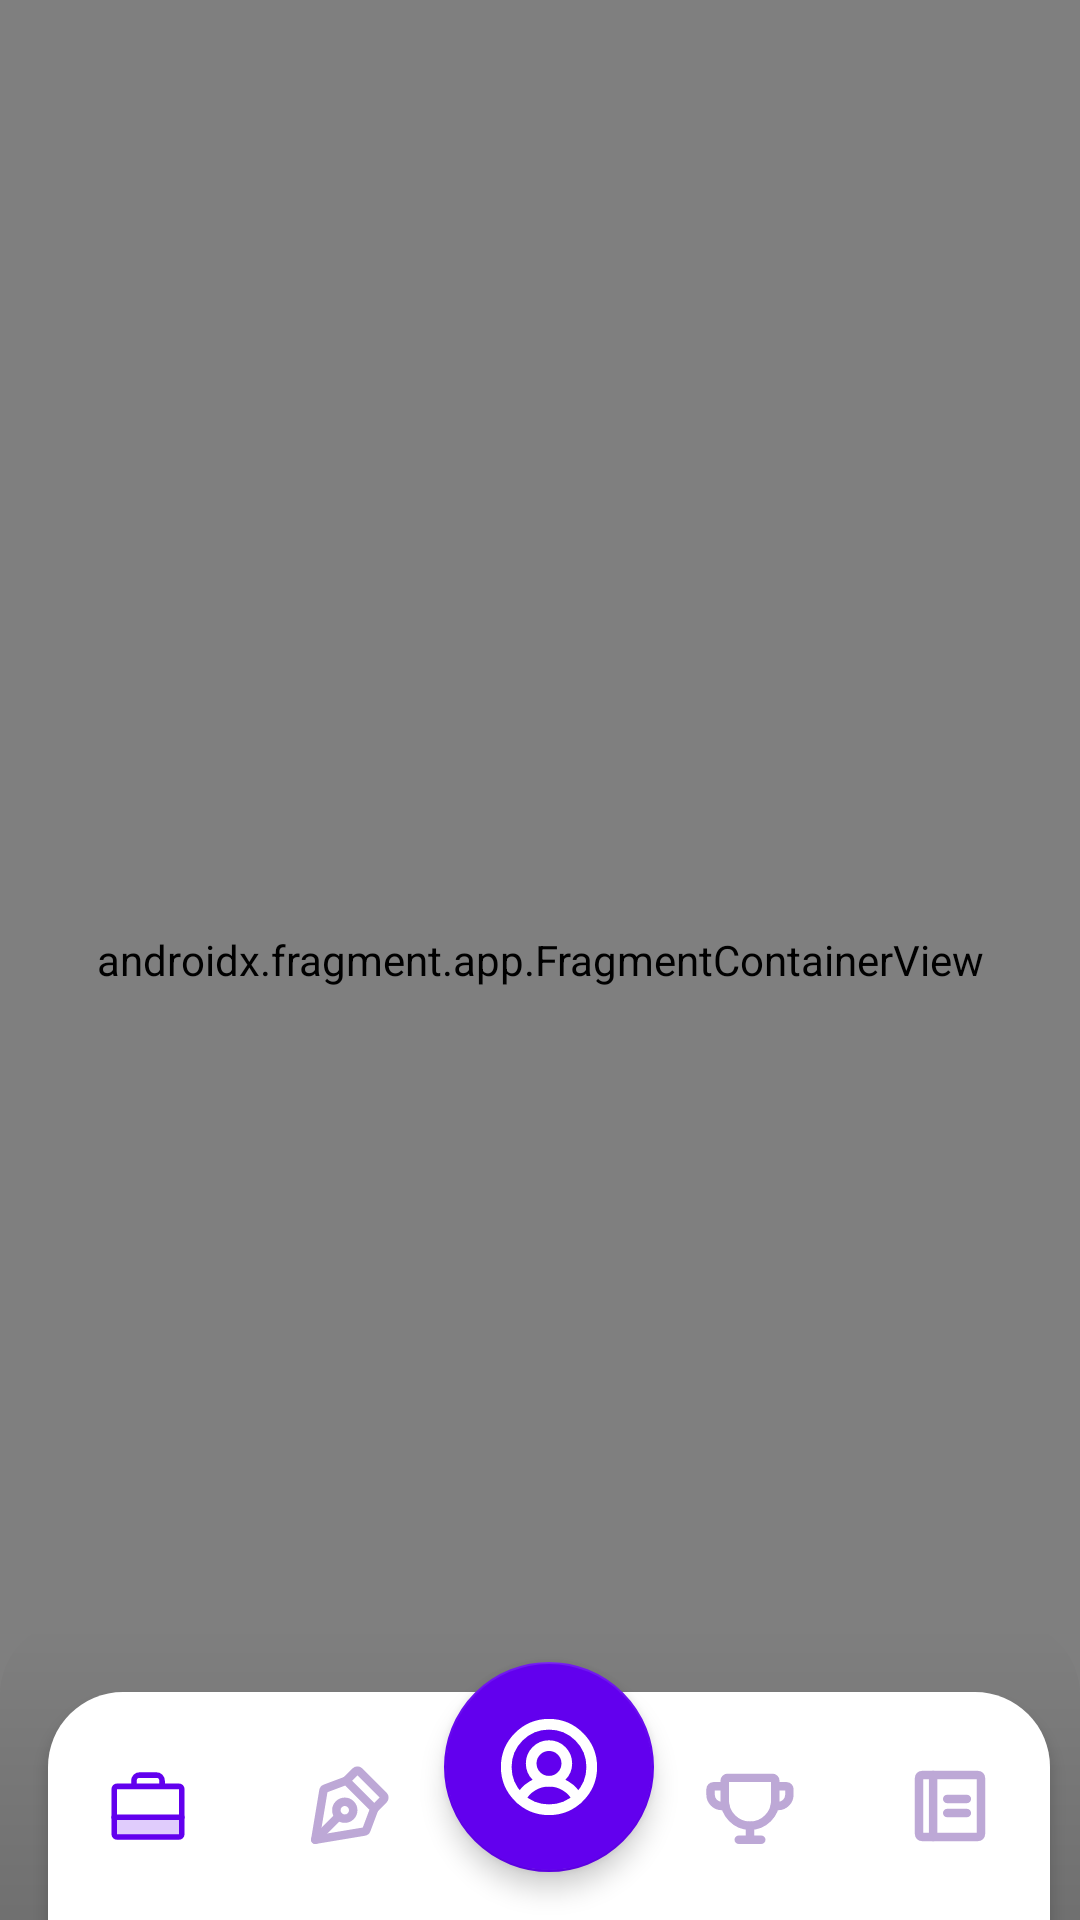

Icon click points for this 1080*1920 phone screenshot, format (x,y):
Profile: (549,1767)
